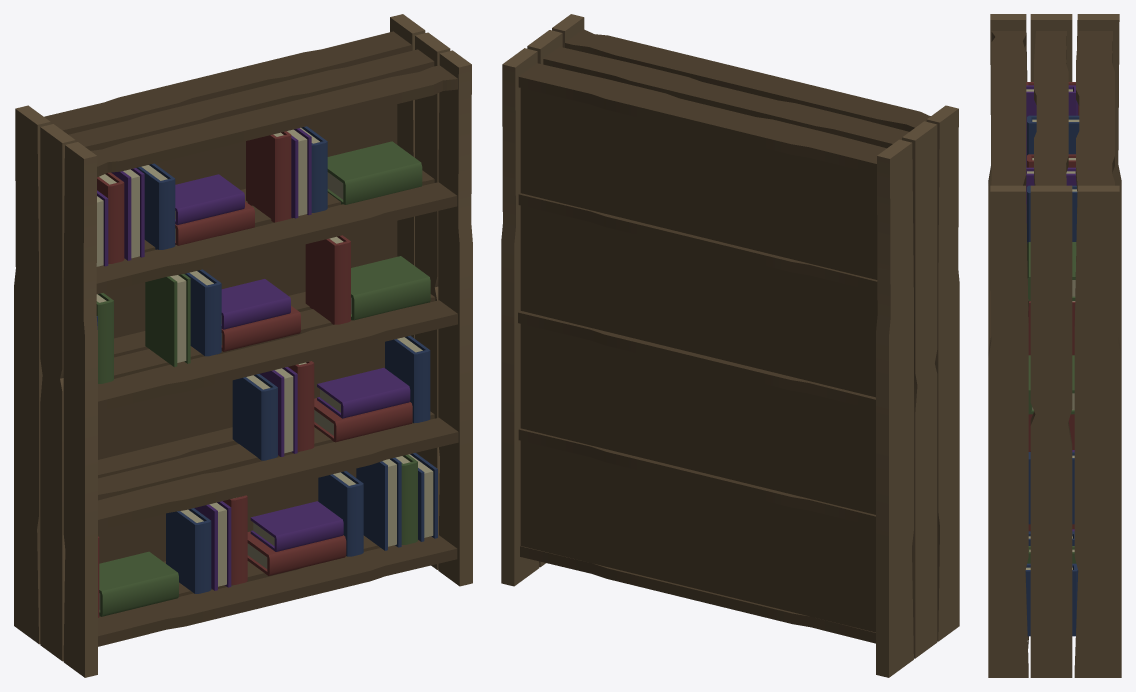
Rendered from Bookcase_Full.glb.
3 views of the same model, side by side, from view 1: azimuth 30°, elevation 25°; view 2: azimuth 150°, elevation 25°; view 3: azimuth 270°, elevation 25° (orthographic). The views are drawn at different scales.
Parts seen in each view (by area): view 1: DarkWood, Wood, Book4, Book, Book2, Book3, Pages; view 2: DarkWood, Wood; view 3: Wood, DarkWood, Book4, Book3, Book, Book2, Pages.
Boxes of the visible parts, x1,y1,x2,y2 form: DarkWood: (44, 31, 458, 646); Wood: (14, 14, 472, 677); Book4: (96, 126, 437, 593); Book: (97, 131, 412, 617); Book2: (96, 141, 430, 616); Book3: (97, 128, 410, 590); Pages: (96, 127, 433, 609); DarkWood: (518, 29, 930, 643); Wood: (501, 14, 959, 677); Wood: (988, 14, 1121, 677); DarkWood: (990, 31, 1114, 648); Book4: (1025, 115, 1079, 636); Book3: (1026, 85, 1078, 531); Book: (1026, 82, 1079, 531); Book2: (1027, 242, 1076, 563); Pages: (1026, 89, 1079, 569).
Bounding box in the file's own units: 2.08 × 2.65 × 0.6582.
